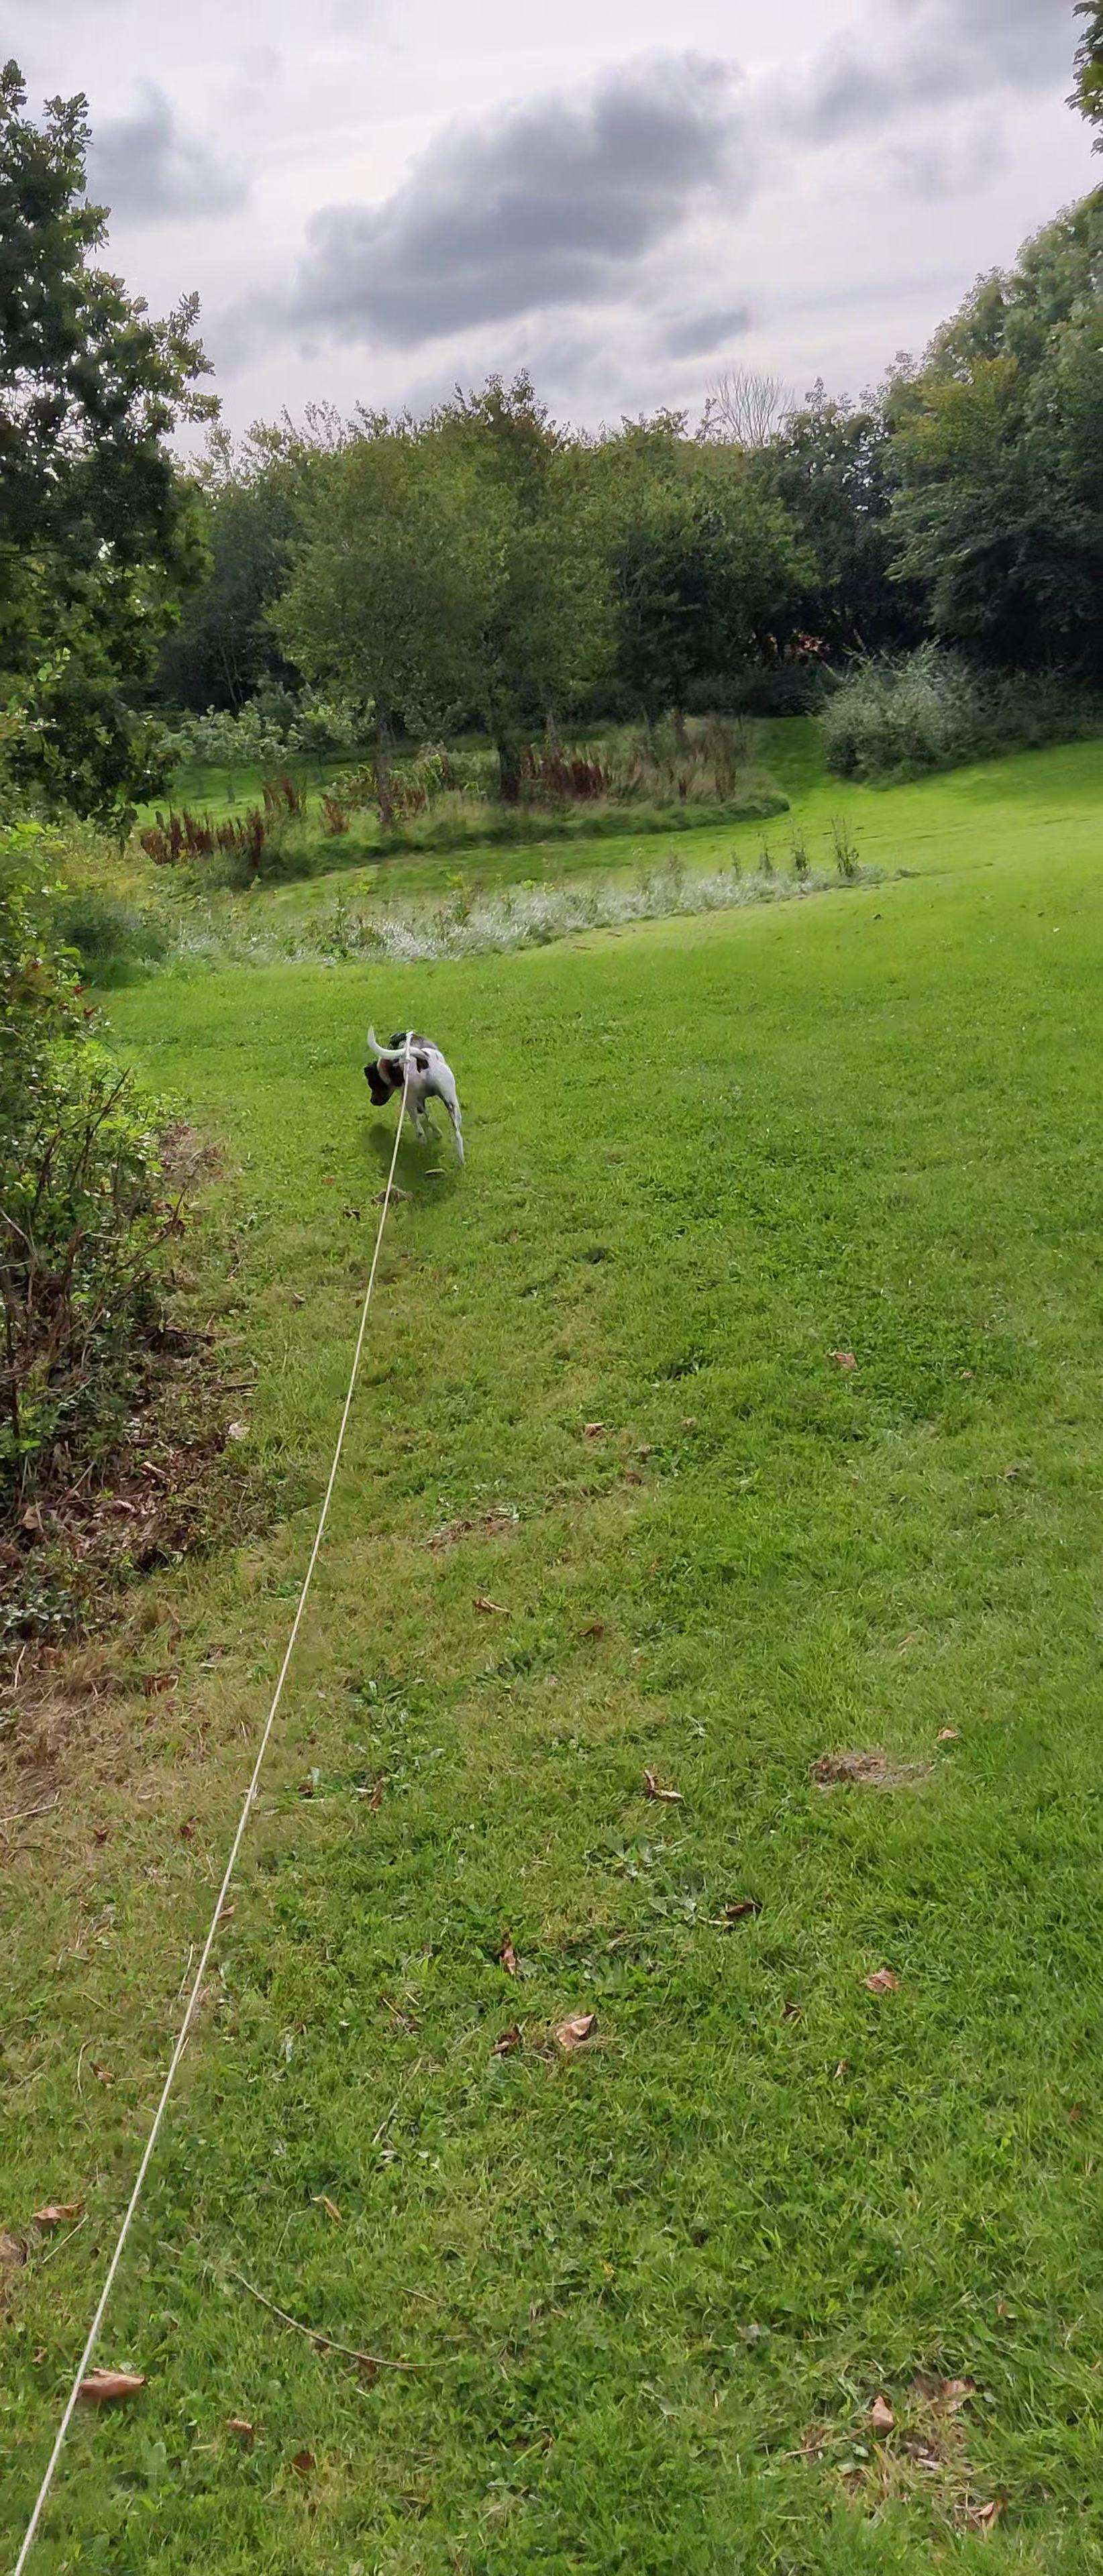Dog: (348, 1015, 480, 1175)
